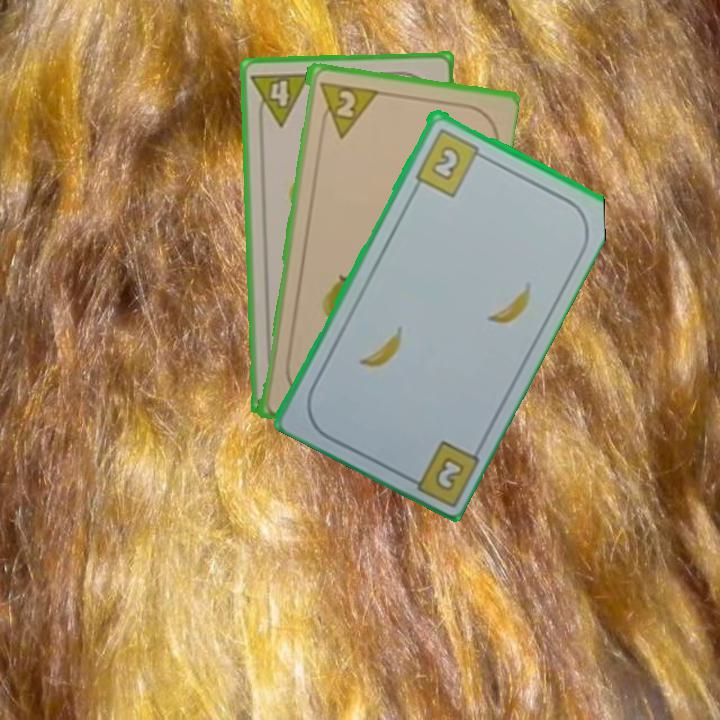2b: (411, 124, 489, 199), (431, 452, 467, 494)
2p: (315, 77, 378, 141)
4p: (248, 68, 313, 130)
